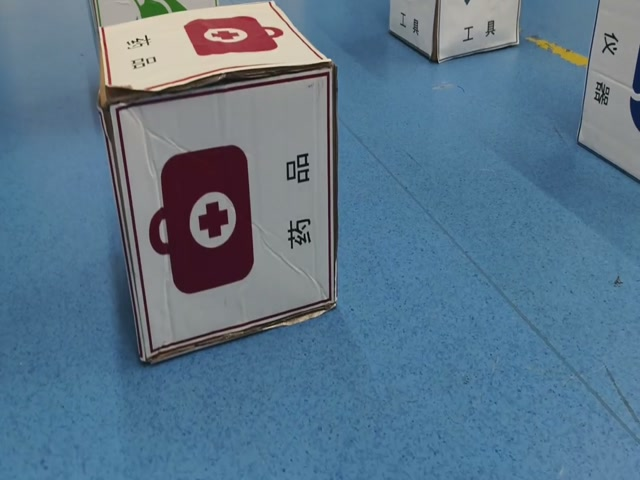Cube_medicine: (94, 0, 330, 94)
